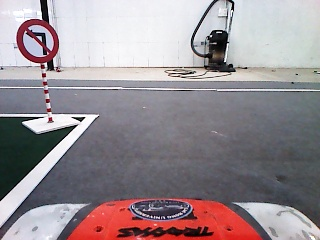ban_left: (16, 19, 60, 63)
